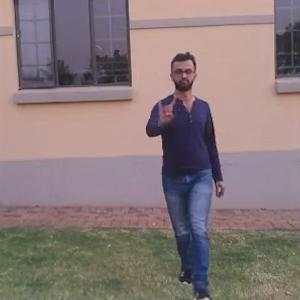takeoff-hand: (152, 93, 183, 129)
